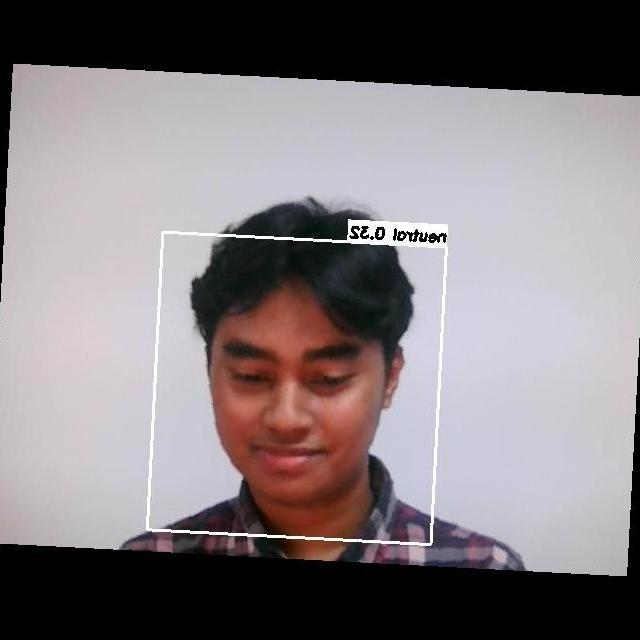Happy: (197, 305, 393, 495)
